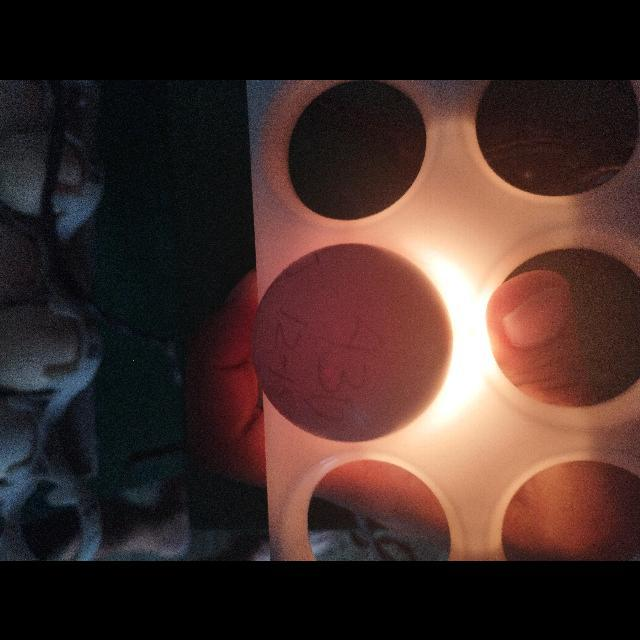Fertile: (248, 242, 454, 444)
